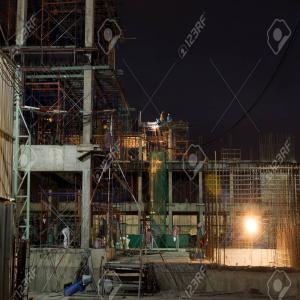yellow: (104, 125, 109, 133), (168, 114, 171, 118)
